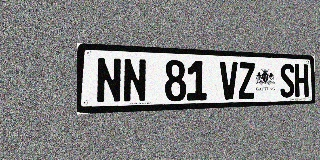1: (187, 60, 207, 101)
8: (165, 60, 186, 101)
H: (295, 64, 309, 97)
N: (96, 57, 122, 104), (123, 58, 147, 103)
S: (280, 63, 295, 98)
V: (220, 61, 238, 100)
Z: (238, 62, 255, 99)
